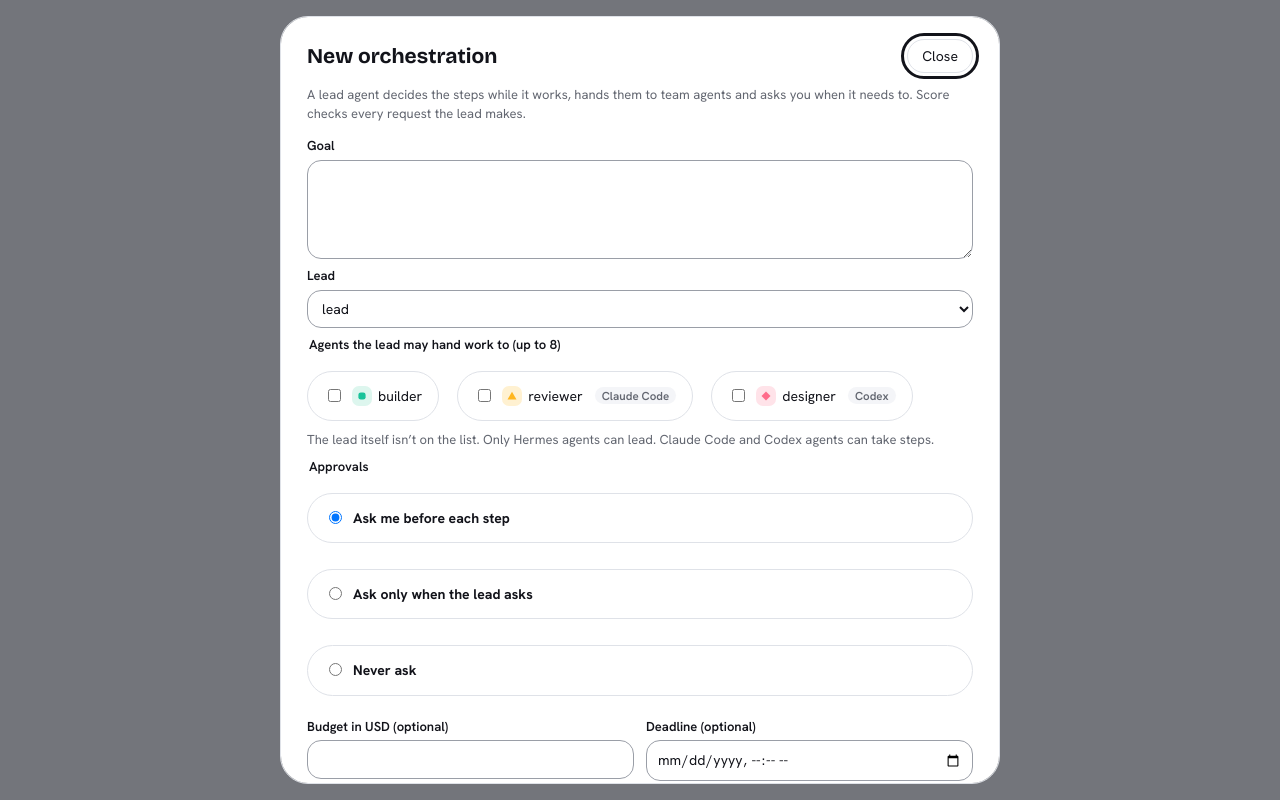
Test: a refused check explains itself and blocks the start
Type "Ship it" into the text box labelled "Goal" at (640, 209), box x1=307 y1=160 x2=973 y2=259
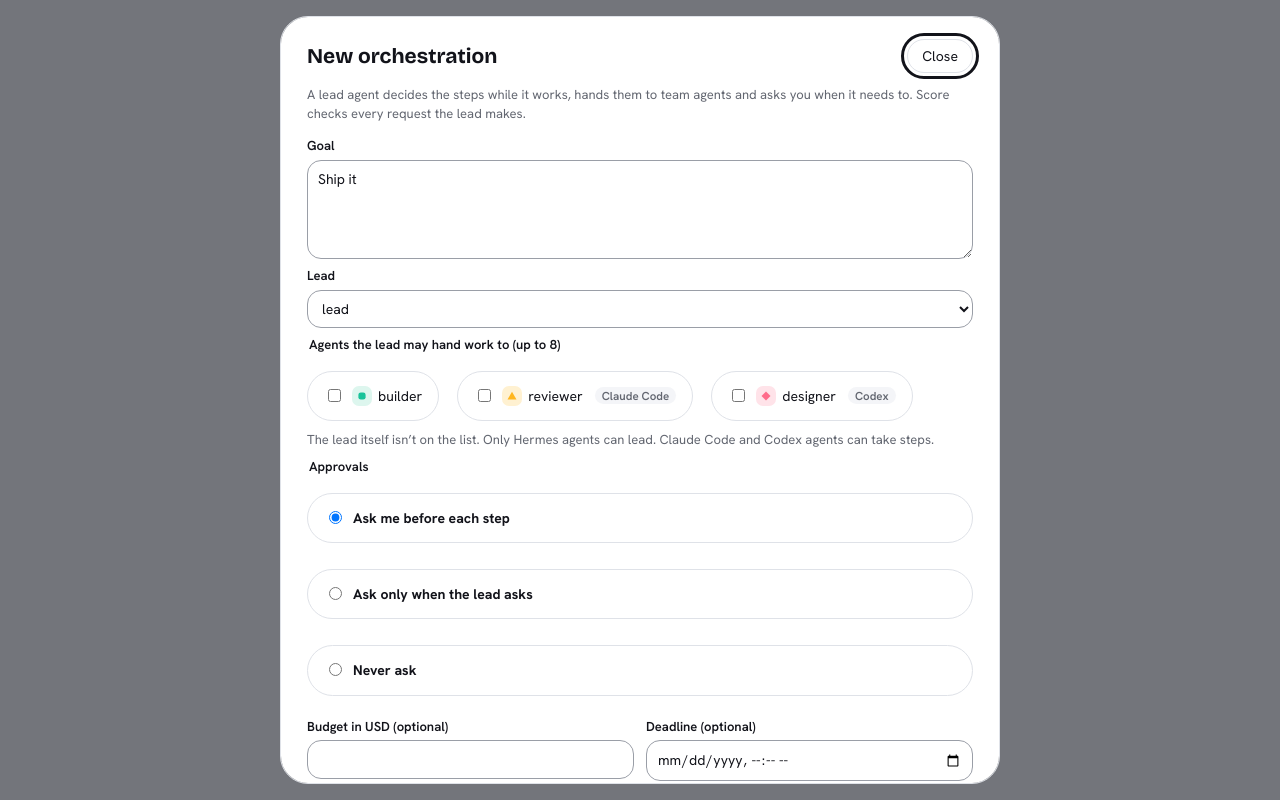
Click the checkbox labelled "designer Codex" at (739, 395), box x1=732 y1=389 x2=745 y2=402
(page scrolled)
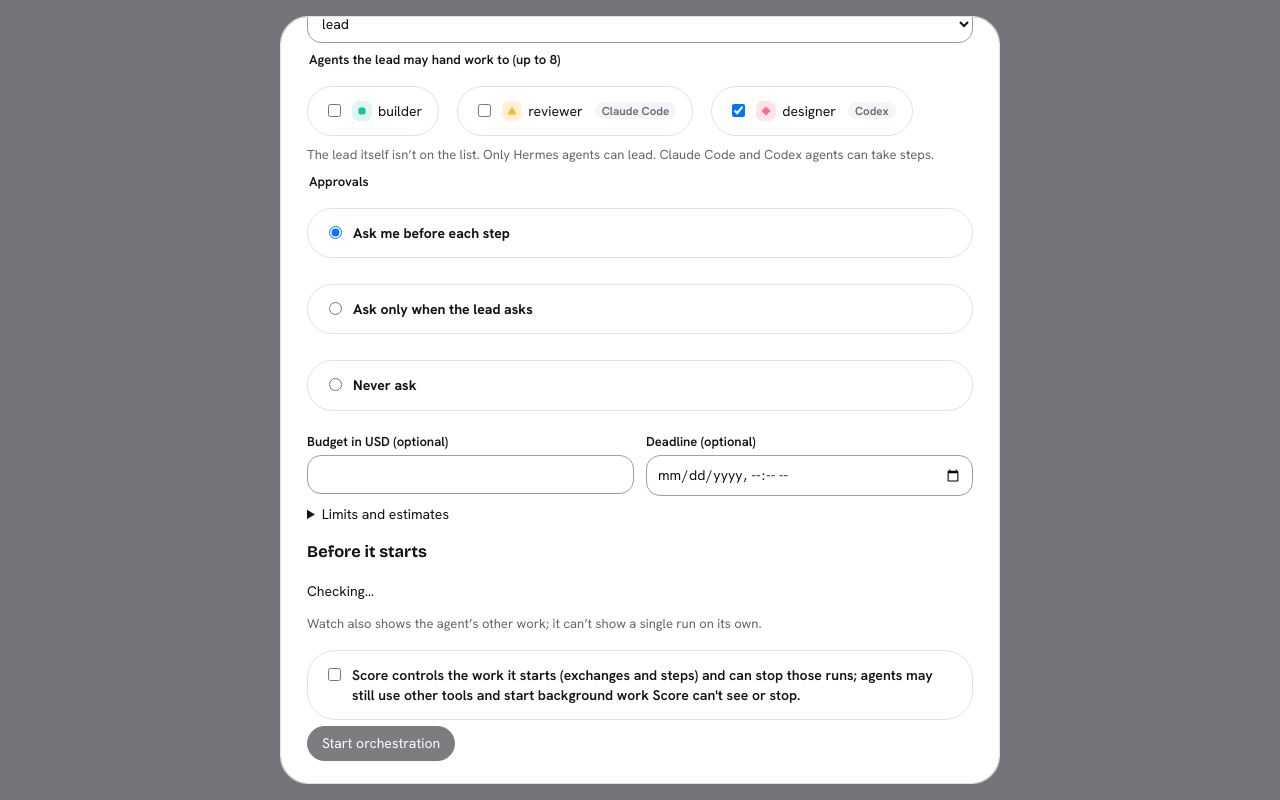
Click the checkbox labelled "Score controls the work it starts" at (334, 674), box x1=328 y1=668 x2=341 y2=681
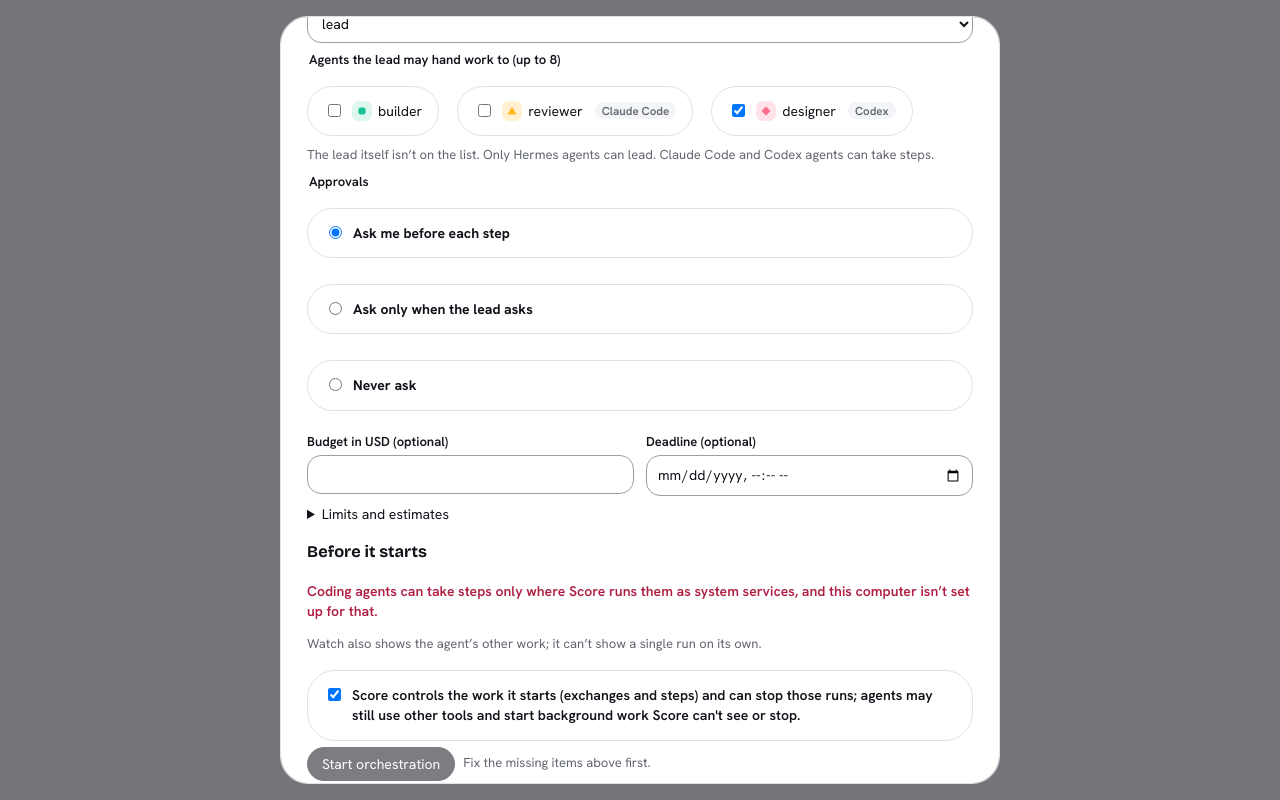
Expected: the button "Start orchestration" is disabled, x1=307 y1=746 x2=455 y2=781
Expected: the text "only where Score runs them as system services" is shown, x1=307 y1=582 x2=970 y2=620
